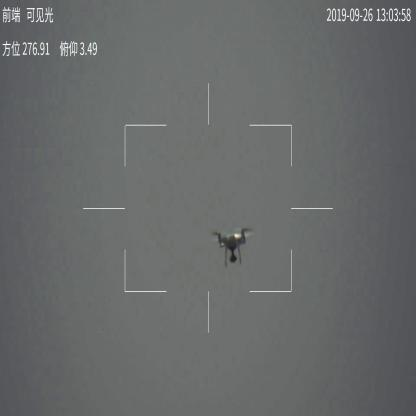uav: (208, 224, 255, 268)
